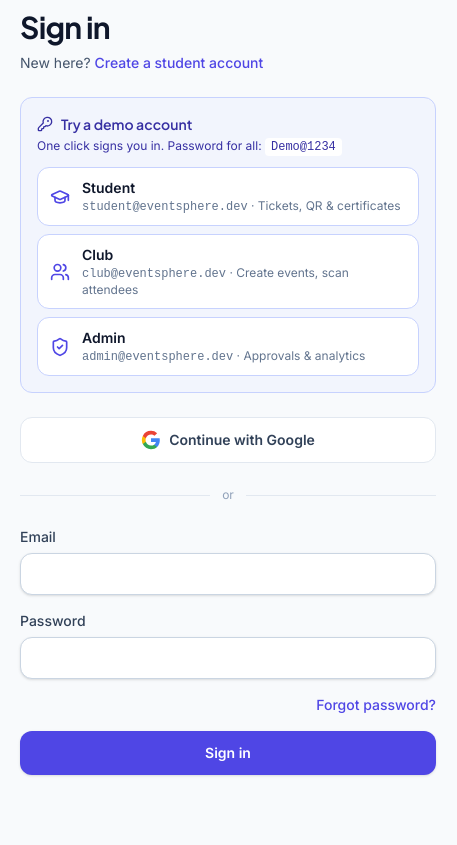
Test case: Login › shows the server error for bad credentials
Step 1. Type "a@b.dev" into the field labelled "Email" → (228, 574), box [20,553,436,595]
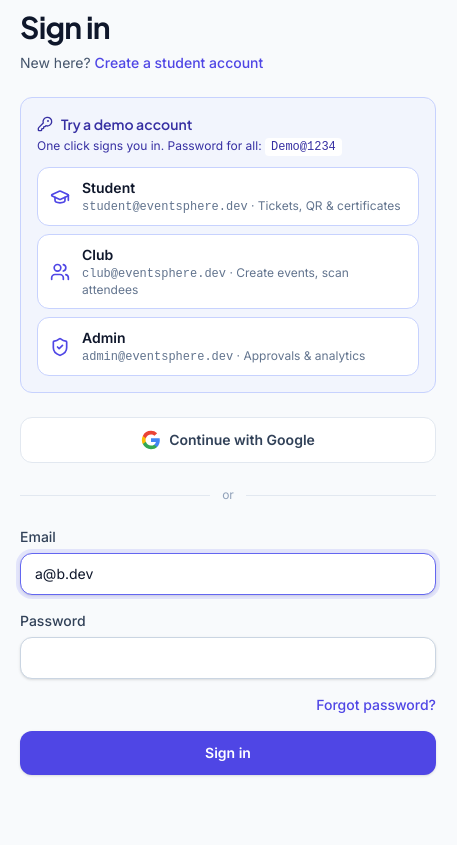
Step 2. Type "wrongpass1" into the password field labelled "Password" → (228, 658), box [20,637,436,679]
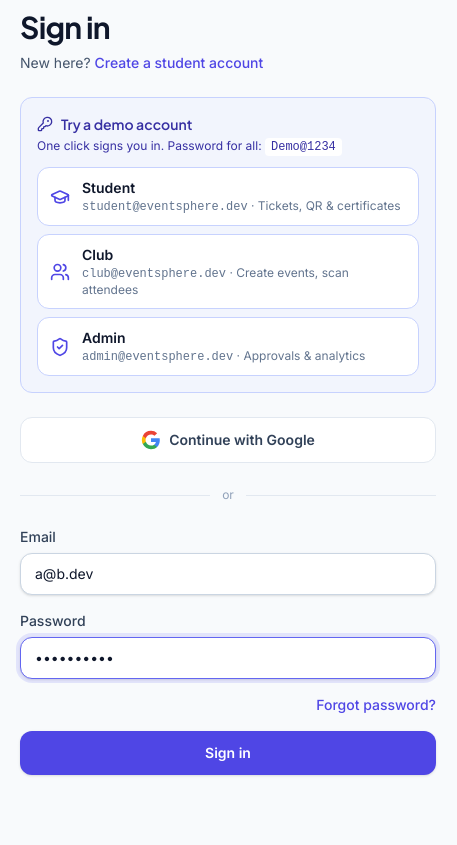
Step 3. Click the button "Sign in" → (228, 753), box [20,731,436,775]
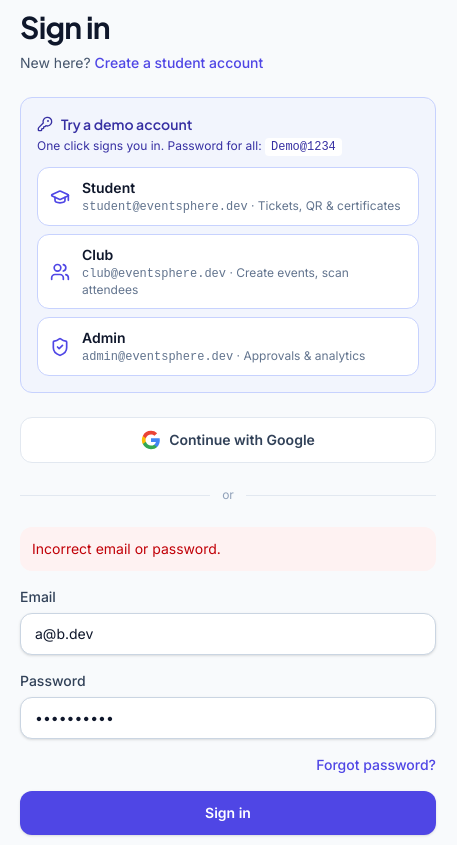
Result: the message reads "Incorrect email or password." at [32,540,221,557]
